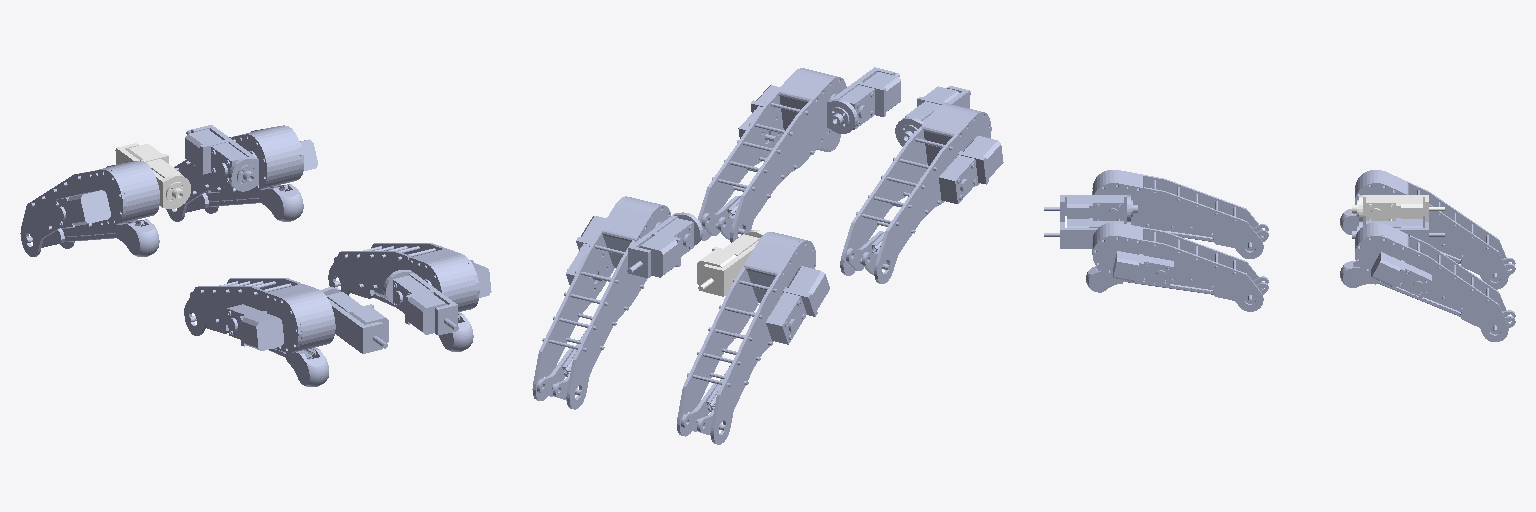
The robot description file, URDF, robot "description":
<?xml version="1.0" encoding="utf-8"?>
<!-- This URDF was automatically created by SolidWorks to URDF Exporter! Originally created by [author] ([email redacted]) 
     Commit Version: 1.6.0-1-g15f4949  Build Version: 1.6.7594.29634
     For more information, please see http://wiki.ros.org/sw_urdf_exporter -->
<robot
  name="description">
  <link
    name="base_link">
    <inertial>
      <origin
        xyz="1.1007E-13 3.7259E-13 -0.080431"
        rpy="0 0 0" />
      <mass
        value="2.5915" />
      <inertia
        ixx="0.055662"
        ixy="9.1624E-16"
        ixz="1.4189E-08"
        iyy="0.0075187"
        iyz="-1.9803E-15"
        izz="0.060968" />
    </inertial>
    <visual>
      <origin
        xyz="0 0 0"
        rpy="0 0 0" />
      <geometry>
        <mesh
          filename="package://description/meshes/base_link.STL" />
      </geometry>
      <material
        name="">
        <color
          rgba="0.79216 0.81961 0.93333 1" />
      </material>
    </visual>
    <collision>
      <origin
        xyz="0 0 0"
        rpy="0 0 0" />
      <geometry>
        <mesh
          filename="package://description/meshes/base_link.STL" />
      </geometry>
    </collision>
  </link>
  <link
    name="flhr">
    <inertial>
      <origin
        xyz="-0.082548 0.00099028 -0.0018719"
        rpy="0 0 0" />
      <mass
        value="0.21717" />
      <inertia
        ixx="5.4847E-05"
        ixy="3.0377E-06"
        ixz="-5.6547E-06"
        iyy="0.00030803"
        iyz="6.7836E-08"
        izz="0.00031237" />
    </inertial>
    <visual>
      <origin
        xyz="0 0 0"
        rpy="0 0 0" />
      <geometry>
        <mesh
          filename="package://description/meshes/flhr.STL" />
      </geometry>
      <material
        name="">
        <color
          rgba="0.79216 0.81961 0.93333 1" />
      </material>
    </visual>
    <collision>
      <origin
        xyz="0 0 0"
        rpy="0 0 0" />
      <geometry>
        <mesh
          filename="package://description/meshes/flhr.STL" />
      </geometry>
    </collision>
  </link>
  <joint
    name="j_flhr"
    type="revolute">
    <origin
      xyz="0.0575 -0.19991 -0.115"
      rpy="1.5708 -0.011996 1.5708" />
    <parent
      link="base_link" />
    <child
      link="flhr" />
    <axis
      xyz="0.99993 -0.011995 0" />
    <limit
      lower="-0.5236"
      upper="0"
      effort="100"
      velocity="100" />
  </joint>
  <transmission name="flhr_tran">
    <type>transmission_interface/SimpleTransmission</type>
    <joint name="j_flhr">
      <hardwareInterface>hardware_interface/EffortJointInterface</hardwareInterface>
    </joint>
    <actuator name="flhr_motor">
      
      <mechanicalReduction>1</mechanicalReduction>
    </actuator>
  </transmission>
  <link
    name="flhp">
    <inertial>
      <origin
        xyz="0.0428558322707208 -0.0331249053482535 0.0533357934919466"
        rpy="0 0 0" />
      <mass
        value="0.693967274657452" />
      <inertia
        ixx="0.000902895717440258"
        ixy="0.000652779600842152"
        ixz="1.00410610498785E-05"
        iyy="0.00117563933707649"
        iyz="-6.69601324817181E-06"
        izz="0.00185388109239571" />
    </inertial>
    <visual>
      <origin
        xyz="0 0 0"
        rpy="0 0 0" />
      <geometry>
        <mesh
          filename="package://description/meshes/flhp.STL" />
      </geometry>
      <material
        name="">
        <color
          rgba="0.792156862745098 0.819607843137255 0.933333333333333 1" />
      </material>
    </visual>
    <collision>
      <origin
        xyz="0 0 0"
        rpy="0 0 0" />
      <geometry>
        <mesh
          filename="package://description/meshes/flhp.STL" />
      </geometry>
    </collision>
  </link>
  <joint
    name="j_flhp"
    type="revolute">
    <origin
      xyz="-0.046391 0.00055652 0.01635"
      rpy="0 0 0.37416" />
    <parent
      link="flhr" />
    <child
      link="flhp" />
    <axis
      xyz="0 0 1" />
    <limit
      lower="-1.2217"
      upper="0"
      effort="100"
      velocity="100" />
  </joint>
  <transmission name="flhp_tran">
    <type>transmission_interface/SimpleTransmission</type>
    <joint name="j_flhp">
      <hardwareInterface>hardware_interface/EffortJointInterface</hardwareInterface>
    </joint>
    <actuator name="flhp_motor">
      
      <mechanicalReduction>1</mechanicalReduction>
    </actuator>
  </transmission>
  <link
    name="flkp">
    <inertial>
      <origin
        xyz="-0.160773614394568 -0.0591694156985878 0.016976555725189"
        rpy="0 0 0" />
      <mass
        value="0.121696114676655" />
      <inertia
        ixx="4.82082653677754E-05"
        ixy="-7.94090394088978E-05"
        ixz="3.83921485232015E-11"
        iyy="0.000235726585573093"
        iyz="-1.14206285827479E-10"
        izz="0.000269729630366022" />
    </inertial>
    <visual>
      <origin
        xyz="0 0 0"
        rpy="0 0 0" />
      <geometry>
        <mesh
          filename="package://description/meshes/flkp.STL" />
      </geometry>
      <material
        name="">
        <color
          rgba="0.792156862745098 0.819607843137255 0.933333333333333 1" />
      </material>
    </visual>
    <collision>
      <origin
        xyz="0 0 0"
        rpy="0 0 0" />
      <geometry>
        <mesh
          filename="package://description/meshes/flkp.STL" />
      </geometry>
    </collision>
  </link>
  <joint
    name="j_flkp"
    type="revolute">
    <origin
      xyz="0.20244 -0.18308 0.026023"
      rpy="0 0 -0.86585" />
    <parent
      link="flhp" />
    <child
      link="flkp" />
    <axis
      xyz="0 0 1" />
    <limit
      lower="0"
      upper="0.95993"
      effort="100"
      velocity="100" />
  </joint>
  <transmission name="flkp_tran">
    <type>transmission_interface/SimpleTransmission</type>
    <joint name="j_flkp">
      <hardwareInterface>hardware_interface/EffortJointInterface</hardwareInterface>
    </joint>
    <actuator name="flkp_motor">
      
      <mechanicalReduction>1</mechanicalReduction>
    </actuator>
  </transmission>
  <link
    name="rlhr">
    <inertial>
      <origin
        xyz="-0.0825484394507335 0.000990279527883053 -0.00187185343417275"
        rpy="0 0 0" />
      <mass
        value="0.217171318192734" />
      <inertia
        ixx="5.48472556816269E-05"
        ixy="3.03774782283235E-06"
        ixz="-5.65470365180462E-06"
        iyy="0.000308033601074512"
        iyz="6.78357737576439E-08"
        izz="0.000312369507182977" />
    </inertial>
    <visual>
      <origin
        xyz="0 0 0"
        rpy="0 0 0" />
      <geometry>
        <mesh
          filename="package://description/meshes/rlhr.STL" />
      </geometry>
      <material
        name="">
        <color
          rgba="0.792156862745098 0.819607843137255 0.933333333333333 1" />
      </material>
    </visual>
    <collision>
      <origin
        xyz="0 0 0"
        rpy="0 0 0" />
      <geometry>
        <mesh
          filename="package://description/meshes/rlhr.STL" />
      </geometry>
    </collision>
  </link>
  <joint
    name="j_rlhr"
    type="revolute">
    <origin
      xyz="0.0575 0.19991 -0.115"
      rpy="-1.5708 0.011996 -1.5708" />
    <parent
      link="base_link" />
    <child
      link="rlhr" />
    <axis
      xyz="0.99993 -0.011995 0" />
    <limit
      lower="-0.17453"
      upper="0.5236"
      effort="100"
      velocity="100" />
  </joint>
  <transmission name="rlhr_tran">
    <type>transmission_interface/SimpleTransmission</type>
    <joint name="j_rlhr">
      <hardwareInterface>hardware_interface/EffortJointInterface</hardwareInterface>
    </joint>
    <actuator name="rlhr_motor">
      
      <mechanicalReduction>1</mechanicalReduction>
    </actuator>
  </transmission>
  <link
    name="rlhp">
    <inertial>
      <origin
        xyz="0.0428558322707217 -0.0331249053482502 0.0533357934919466"
        rpy="0 0 0" />
      <mass
        value="0.693967274657452" />
      <inertia
        ixx="0.000902895717440256"
        ixy="0.000652779600842151"
        ixz="1.0041061049878E-05"
        iyy="0.00117563933707649"
        iyz="-6.69601324817142E-06"
        izz="0.00185388109239571" />
    </inertial>
    <visual>
      <origin
        xyz="0 0 0"
        rpy="0 0 0" />
      <geometry>
        <mesh
          filename="package://description/meshes/rlhp.STL" />
      </geometry>
      <material
        name="">
        <color
          rgba="0.792156862745098 0.819607843137255 0.933333333333333 1" />
      </material>
    </visual>
    <collision>
      <origin
        xyz="0 0 0"
        rpy="0 0 0" />
      <geometry>
        <mesh
          filename="package://description/meshes/rlhp.STL" />
      </geometry>
    </collision>
  </link>
  <joint
    name="j_rlhp"
    type="revolute">
    <origin
      xyz="-0.046391 0.00055652 0.01635"
      rpy="0 0 -3.0292" />
    <parent
      link="rlhr" />
    <child
      link="rlhp" />
    <axis
      xyz="0 0 1" />
    <limit
      lower="-0.95993"
      upper="0"
      effort="100"
      velocity="100" />
  </joint>
  <transmission name="rlhp_tran">
    <type>transmission_interface/SimpleTransmission</type>
    <joint name="j_rlhp">
      <hardwareInterface>hardware_interface/EffortJointInterface</hardwareInterface>
    </joint>
    <actuator name="rlhp_motor">
      
      <mechanicalReduction>1</mechanicalReduction>
    </actuator>
  </transmission>
  <link
    name="rlkp">
    <inertial>
      <origin
        xyz="-0.160773568052752 -0.0591693852667058 0.0169765539878554"
        rpy="0 0 0" />
      <mass
        value="0.121696082641449" />
      <inertia
        ixx="4.82083044827708E-05"
        ixy="-7.94089275911074E-05"
        ixz="3.81105199576272E-11"
        iyy="0.000235726631854796"
        iyz="-1.28918612369862E-10"
        izz="0.000269729590228258" />
    </inertial>
    <visual>
      <origin
        xyz="0 0 0"
        rpy="0 0 0" />
      <geometry>
        <mesh
          filename="package://description/meshes/rlkp.STL" />
      </geometry>
      <material
        name="">
        <color
          rgba="0.792156862745098 0.819607843137255 0.933333333333333 1" />
      </material>
    </visual>
    <collision>
      <origin
        xyz="0 0 0"
        rpy="0 0 0" />
      <geometry>
        <mesh
          filename="package://description/meshes/rlkp.STL" />
      </geometry>
    </collision>
  </link>
  <joint
    name="j_rlkp"
    type="revolute">
    <origin
      xyz="0.20244 -0.18308 0.026023"
      rpy="0 0 -0.86585" />
    <parent
      link="rlhp" />
    <child
      link="rlkp" />
    <axis
      xyz="0 0 1" />
    <limit
      lower="0"
      upper="0.95993"
      effort="100"
      velocity="100" />
  </joint>
  <transmission name="rlkp_tran">
    <type>transmission_interface/SimpleTransmission</type>
    <joint name="j_rlkp">
      <hardwareInterface>hardware_interface/EffortJointInterface</hardwareInterface>
    </joint>
    <actuator name="rlkp_motor">
      
      <mechanicalReduction>1</mechanicalReduction>
    </actuator>
  </transmission>
  <link
    name="frhr">
    <inertial>
      <origin
        xyz="-0.0825484394507336 0.00099027952788304 -0.00187185343417302"
        rpy="0 0 0" />
      <mass
        value="0.217171318192734" />
      <inertia
        ixx="5.48472556816269E-05"
        ixy="3.03774782283419E-06"
        ixz="-5.6547036518046E-06"
        iyy="0.000308033601074511"
        iyz="6.78357737576904E-08"
        izz="0.000312369507182977" />
    </inertial>
    <visual>
      <origin
        xyz="0 0 0"
        rpy="0 0 0" />
      <geometry>
        <mesh
          filename="package://description/meshes/frhr.STL" />
      </geometry>
      <material
        name="">
        <color
          rgba="0.792156862745098 0.819607843137255 0.933333333333333 1" />
      </material>
    </visual>
    <collision>
      <origin
        xyz="0 0 0"
        rpy="0 0 0" />
      <geometry>
        <mesh
          filename="package://description/meshes/frhr.STL" />
      </geometry>
    </collision>
  </link>
  <joint
    name="j_frhr"
    type="revolute">
    <origin
      xyz="-0.0575 -0.19991 -0.115"
      rpy="-1.5708 0.011996 1.5708" />
    <parent
      link="base_link" />
    <child
      link="frhr" />
    <axis
      xyz="0.99993 -0.011995 0" />
    <limit
      lower="0"
      upper="0.5236"
      effort="100"
      velocity="100" />
  </joint>
  <transmission name="frhr_tran">
    <type>transmission_interface/SimpleTransmission</type>
    <joint name="j_frhr">
      <hardwareInterface>hardware_interface/EffortJointInterface</hardwareInterface>
    </joint>
    <actuator name="frhr_motor">
      
      <mechanicalReduction>1</mechanicalReduction>
    </actuator>
  </transmission>
  <link
    name="frhp">
    <inertial>
      <origin
        xyz="0.0474433086620266 -0.0259416128651269 -0.053369363105334"
        rpy="0 0 0" />
      <mass
        value="0.693181876494053" />
      <inertia
        ixx="0.000707063443052804"
        ixy="0.000578045611097527"
        ixz="-1.09657688336643E-05"
        iyy="0.00136908932505153"
        iyz="5.0409735481957E-06"
        izz="0.00185150207847565" />
    </inertial>
    <visual>
      <origin
        xyz="0 0 0"
        rpy="0 0 0" />
      <geometry>
        <mesh
          filename="package://description/meshes/frhp.STL" />
      </geometry>
      <material
        name="">
        <color
          rgba="0.792156862745098 0.819607843137255 0.933333333333333 1" />
      </material>
    </visual>
    <collision>
      <origin
        xyz="0 0 0"
        rpy="0 0 0" />
      <geometry>
        <mesh
          filename="package://description/meshes/frhp.STL" />
      </geometry>
    </collision>
  </link>
  <joint
    name="j_frhp"
    type="revolute">
    <origin
      xyz="-0.0463906138488967 0.000556517791082928 0.0163500000000001"
      rpy="3.14159265358979 0 -0.240900104116896" />
    <parent
      link="frhr" />
    <child
      link="frhp" />
    <axis
      xyz="0 0 1" />
    <limit
      lower="-1.2217"
      upper="0"
      effort="100"
      velocity="100" />
  </joint>
  <transmission name="frhp_tran">
    <type>transmission_interface/SimpleTransmission</type>
    <joint name="j_frhp">
      <hardwareInterface>hardware_interface/EffortJointInterface</hardwareInterface>
    </joint>
    <actuator name="frhp_motor">
      
      <mechanicalReduction>1</mechanicalReduction>
    </actuator>
  </transmission>
  <link
    name="frkp">
    <inertial>
      <origin
        xyz="-0.142429101190215 -0.0952004515417478 -0.0169765199030201"
        rpy="0 0 0" />
      <mass
        value="0.121696114676655" />
      <inertia
        ixx="9.4691653489718E-05"
        ixy="-0.000113408893066758"
        ixz="6.40883130688407E-11"
        iyy="0.000189243197451151"
        iyz="-1.02028039849044E-10"
        izz="0.000269729630366022" />
    </inertial>
    <visual>
      <origin
        xyz="0 0 0"
        rpy="0 0 0" />
      <geometry>
        <mesh
          filename="package://description/meshes/frkp.STL" />
      </geometry>
      <material
        name="">
        <color
          rgba="0.792156862745098 0.819607843137255 0.933333333333333 1" />
      </material>
    </visual>
    <collision>
      <origin
        xyz="0 0 0"
        rpy="0 0 0" />
      <geometry>
        <mesh
          filename="package://description/meshes/frkp.STL" />
      </geometry>
    </collision>
  </link>
  <joint
    name="j_frkp"
    type="revolute">
    <origin
      xyz="0.228613023629153 -0.14911768985314 -0.0260234621858964"
      rpy="0 0 -0.945160157856503" />
    <parent
      link="frhp" />
    <child
      link="frkp" />
    <axis
      xyz="0 0 1" />
    <limit
      lower="0"
      upper="0.95993"
      effort="100"
      velocity="100" />
  </joint>
  <transmission name="frkp_tran">
    <type>transmission_interface/SimpleTransmission</type>
    <joint name="j_frkp">
      <hardwareInterface>hardware_interface/EffortJointInterface</hardwareInterface>
    </joint>
    <actuator name="frkp_motor">
      
      <mechanicalReduction>1</mechanicalReduction>
    </actuator>
  </transmission>
  <link
    name="rrhr">
    <inertial>
      <origin
        xyz="0 0 0"
        rpy="0 0 0" />
      <mass
        value="0" />
      <inertia
        ixx="0"
        ixy="0"
        ixz="0"
        iyy="0"
        iyz="0"
        izz="0" />
    </inertial>
    <visual>
      <origin
        xyz="0 0 0"
        rpy="0 0 0" />
      <geometry>
        <mesh
          filename="package://description/meshes/rrhr.STL" />
      </geometry>
      <material
        name="">
        <color
          rgba="1 1 1 1" />
      </material>
    </visual>
    <collision>
      <origin
        xyz="0 0 0"
        rpy="0 0 0" />
      <geometry>
        <mesh
          filename="package://description/meshes/rrhr.STL" />
      </geometry>
    </collision>
  </link>
  <joint
    name="j_rrhr"
    type="revolute">
    <origin
      xyz="-0.0575000000003378 0.199906048182289 -0.114999999999853"
      rpy="1.5707963267949 -0.011995769200627 -1.5707963267949" />
    <parent
      link="base_link" />
    <child
      link="rrhr" />
    <axis
      xyz="0.999928051623421 -0.011995481507206 0" />
    <limit
      lower="-0.17453"
      upper="0.5236"
      effort="100"
      velocity="100" />
  </joint>
  <transmission name="rrhr_tran">
    <type>transmission_interface/SimpleTransmission</type>
    <joint name="j_rrhr">
      <hardwareInterface>hardware_interface/EffortJointInterface</hardwareInterface>
    </joint>
    <actuator name="rrhr_motor">
      
      <mechanicalReduction>1</mechanicalReduction>
    </actuator>
  </transmission>
  <link
    name="rrhp">
    <inertial>
      <origin
        xyz="0.0474433086620269 -0.0259416128651234 -0.053369363105334"
        rpy="0 0 0" />
      <mass
        value="0.693181876494053" />
      <inertia
        ixx="0.000707063443052803"
        ixy="0.000578045611097526"
        ixz="-1.09657688336655E-05"
        iyy="0.00136908932505154"
        iyz="5.04097354819631E-06"
        izz="0.00185150207847565" />
    </inertial>
    <visual>
      <origin
        xyz="0 0 0"
        rpy="0 0 0" />
      <geometry>
        <mesh
          filename="package://description/meshes/rrhp.STL" />
      </geometry>
      <material
        name="">
        <color
          rgba="0.792156862745098 0.819607843137255 0.933333333333333 1" />
      </material>
    </visual>
    <collision>
      <origin
        xyz="0 0 0"
        rpy="0 0 0" />
      <geometry>
        <mesh
          filename="package://description/meshes/rrhp.STL" />
      </geometry>
    </collision>
  </link>
  <joint
    name="j_rrhp"
    type="revolute">
    <origin
      xyz="-0.0463906138488967 0.000556517791083372 0.0163499999999992"
      rpy="3.14159265358979 0 -3.12069336990756" />
    <parent
      link="rrhr" />
    <child
      link="rrhp" />
    <axis
      xyz="0 0 1" />
    <limit
      lower="-0.95993"
      upper="0"
      effort="100"
      velocity="100" />
  </joint>
  <transmission name="rrhp_tran">
    <type>transmission_interface/SimpleTransmission</type>
    <joint name="j_rrhp">
      <hardwareInterface>hardware_interface/EffortJointInterface</hardwareInterface>
    </joint>
    <actuator name="rrhp_motor">
      
      <mechanicalReduction>1</mechanicalReduction>
    </actuator>
  </transmission>
  <link
    name="rrkp">
    <inertial>
      <origin
        xyz="-0.160773568052752 -0.0591693852667053 -0.0169765216403541"
        rpy="0 0 0" />
      <mass
        value="0.121696082641449" />
      <inertia
        ixx="4.8208304482771E-05"
        ixy="-7.94089275911079E-05"
        ixz="3.81105198916836E-11"
        iyy="0.000235726631854796"
        iyz="-1.2891861239338E-10"
        izz="0.000269729590228259" />
    </inertial>
    <visual>
      <origin
        xyz="0 0 0"
        rpy="0 0 0" />
      <geometry>
        <mesh
          filename="package://description/meshes/rrkp.STL" />
      </geometry>
      <material
        name="">
        <color
          rgba="0.792156862745098 0.819607843137255 0.933333333333333 1" />
      </material>
    </visual>
    <collision>
      <origin
        xyz="0 0 0"
        rpy="0 0 0" />
      <geometry>
        <mesh
          filename="package://description/meshes/rrkp.STL" />
      </geometry>
    </collision>
  </link>
  <joint
    name="j_rrkp"
    type="revolute">
    <origin
      xyz="0.228613023629153 -0.149117689853136 -0.0260234621858964"
      rpy="0 0 -0.708599928565525" />
    <parent
      link="rrhp" />
    <child
      link="rrkp" />
    <axis
      xyz="0 0 1" />
    <limit
      lower="0"
      upper="0.95993"
      effort="100"
      velocity="100" />
  </joint>
  <transmission name="rrkp_tran">
    <type>transmission_interface/SimpleTransmission</type>
    <joint name="j_rrkp">
      <hardwareInterface>hardware_interface/EffortJointInterface</hardwareInterface>
    </joint>
    <actuator name="rrkp_motor">
      
      <mechanicalReduction>1</mechanicalReduction>
    </actuator>
  </transmission>

  <gazebo>
    <plugin name="gazebo_ros_control" filename="libgazebo_ros_control.so">
      <robotNamespace>/body_attempt_2</robotNamespace>
    </plugin>
  </gazebo>
  
</robot>

--- Render facts (derived) ---
The picture shows the robot from 3 angles, left to right: view 1: azimuth 30°, elevation 25°; view 2: azimuth 150°, elevation 25°; view 3: azimuth 270°, elevation 25°; orthographic projection.
Model description with 13 links and 12 joints (12 revolute), rooted at base_link, posed every joint at zero.
Visible links, largest first — view 1: frhp, rrhp, flhp, rlhp, rlhr, flhr, frhr, rlkp, rrkp, rrhr, frkp, flkp; view 2: rrhp, frhp, rlhp, flhp, flhr, rlhr, rrhr, frhr, flkp, rlkp, rrkp, frkp; view 3: flhp, rlhp, frhp, rrhp, frhr, rrhr, rlkp, flkp, flhr, rrkp, rlhr, frkp.
Boxes of the visible links, x1=… form: frhp: x1=184, y1=278, x2=335, y2=352; rrhp: x1=20, y1=161, x2=159, y2=256; flhp: x1=328, y1=243, x2=491, y2=311; rlhp: x1=166, y1=125, x2=317, y2=221; rlhr: x1=185, y1=125, x2=258, y2=191; flhr: x1=383, y1=270, x2=458, y2=335; frhr: x1=321, y1=287, x2=388, y2=353; rlkp: x1=186, y1=184, x2=303, y2=221; rrkp: x1=29, y1=219, x2=159, y2=256; rrhr: x1=115, y1=143, x2=190, y2=208; frkp: x1=190, y1=292, x2=328, y2=386; flkp: x1=334, y1=257, x2=473, y2=351; rrhp: x1=677, y1=232, x2=829, y2=444; frhp: x1=840, y1=103, x2=1003, y2=283; rlhp: x1=532, y1=196, x2=670, y2=409; flhp: x1=698, y1=68, x2=846, y2=242; flhr: x1=827, y1=67, x2=900, y2=133; rlhr: x1=627, y1=212, x2=702, y2=277; rrhr: x1=697, y1=230, x2=764, y2=296; frhr: x1=895, y1=86, x2=970, y2=146; flkp: x1=702, y1=131, x2=840, y2=239; rlkp: x1=537, y1=328, x2=587, y2=400; rrkp: x1=681, y1=363, x2=731, y2=435; frkp: x1=846, y1=183, x2=979, y2=274; flhp: x1=1092, y1=222, x2=1263, y2=311; rlhp: x1=1355, y1=222, x2=1508, y2=341; frhp: x1=1092, y1=170, x2=1263, y2=258; rrhp: x1=1355, y1=170, x2=1508, y2=289; frhr: x1=1044, y1=195, x2=1137, y2=221; rrhr: x1=1352, y1=195, x2=1444, y2=221; rlkp: x1=1340, y1=261, x2=1515, y2=334; flkp: x1=1086, y1=266, x2=1268, y2=303; flhr: x1=1044, y1=218, x2=1130, y2=248; rrkp: x1=1340, y1=209, x2=1515, y2=281; rlhr: x1=1352, y1=218, x2=1444, y2=243; frkp: x1=1134, y1=224, x2=1268, y2=250.
Size in the robot's own frame: 0.3778 by 0.8842 by 0.2215 metres.
12 mesh visuals loaded from 13 distinct referenced files (12 binary STL); not drawn: 1 (reference not matched to a file when rendering).
